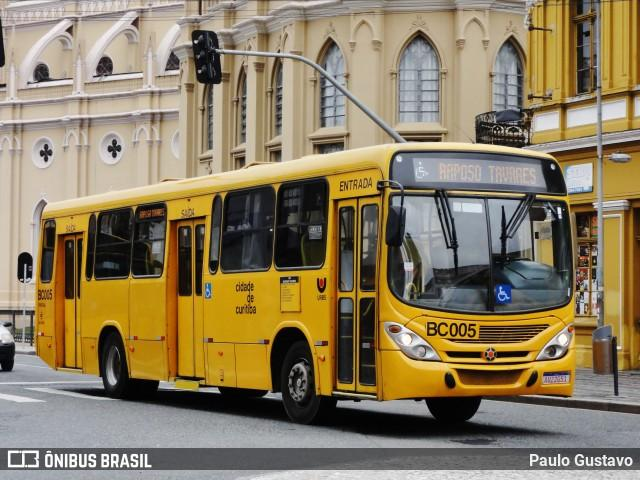RAPOSO TAVARES: (434, 160, 540, 188)
